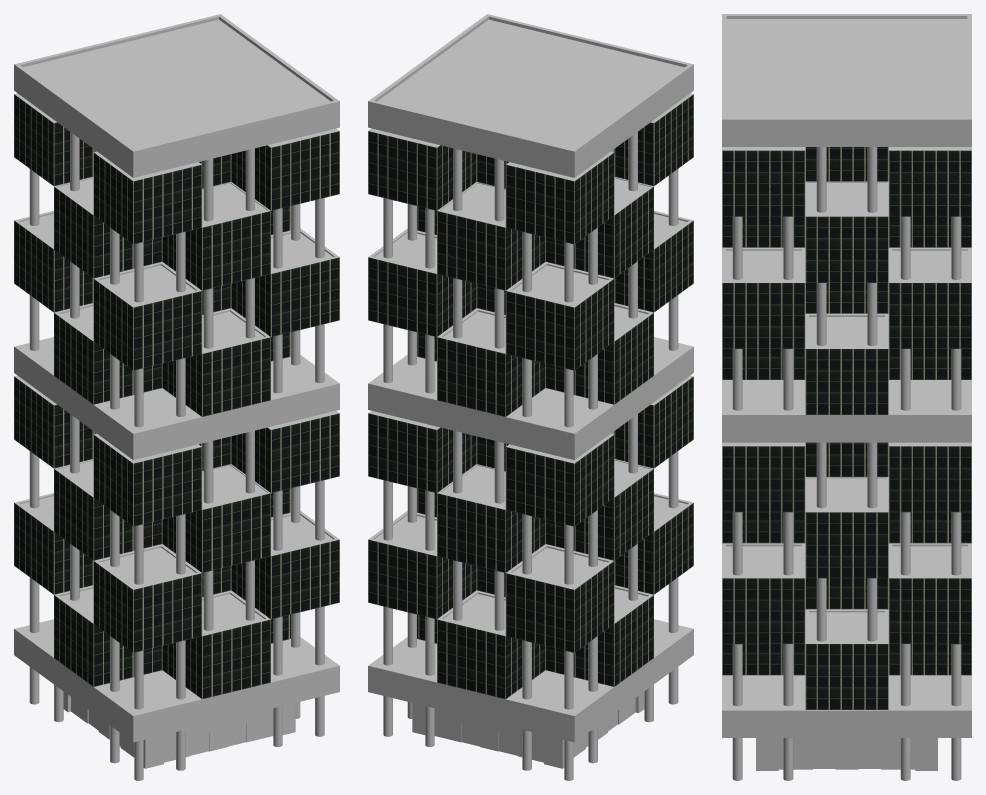
3 renders of one model, left to right at view 1: azimuth 30°, elevation 25°; view 2: azimuth 150°, elevation 25°; view 3: azimuth 270°, elevation 25°, orthographic. The views are drawn at different scales.
Parts seen in each view (by area): view 1: BC-089; view 2: BC-089; view 3: BC-089.
Boxes of the visible parts, x1,y1,x2,y2 form: BC-089: [14, 14, 339, 780]; BC-089: [368, 14, 693, 780]; BC-089: [722, 14, 971, 780].
Size of what is drawn, in the model's own units: 30.59 by 90 by 30.59.
